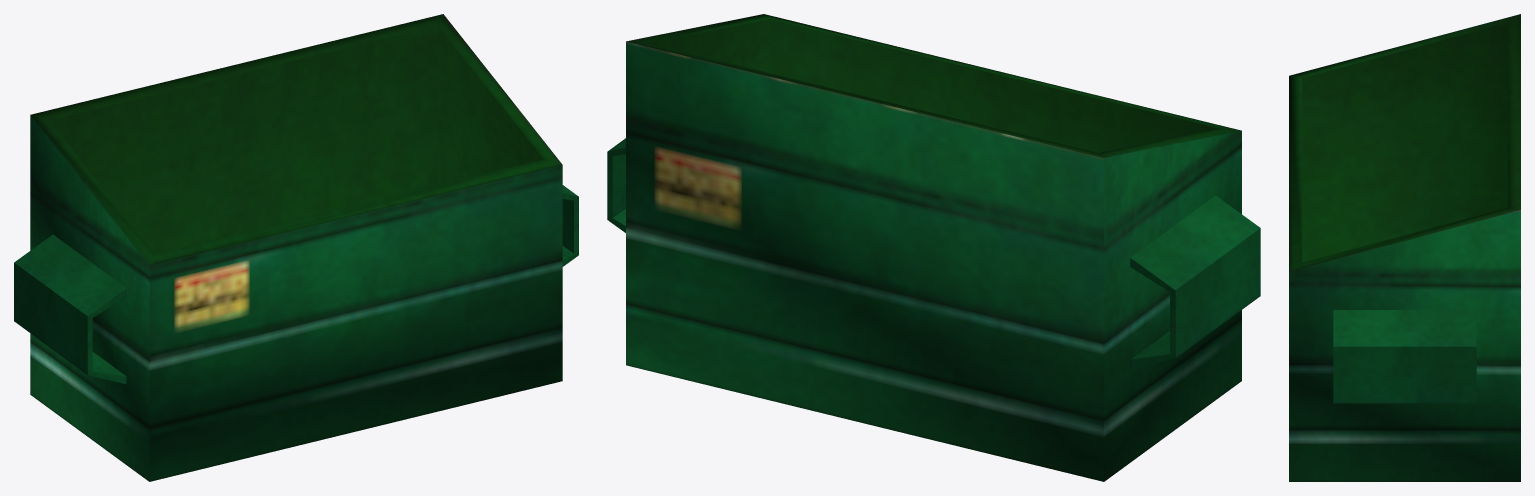
The model's file is dumpster.glb.
3 renders of one model, left to right at view 1: azimuth 30°, elevation 25°; view 2: azimuth 150°, elevation 25°; view 3: azimuth 270°, elevation 25°, orthographic. The views are drawn at different scales.
Visible parts, largest first — view 1: Dumpster; view 2: Dumpster; view 3: Dumpster.
Part boxes in pixels (bbox=[...]): Dumpster: bbox=[14, 14, 578, 481]; Dumpster: bbox=[607, 14, 1260, 481]; Dumpster: bbox=[1289, 14, 1520, 481].
Bounding box in the file's own units: 2.02 × 1.1 × 0.85.
1 material, 1 textured.
